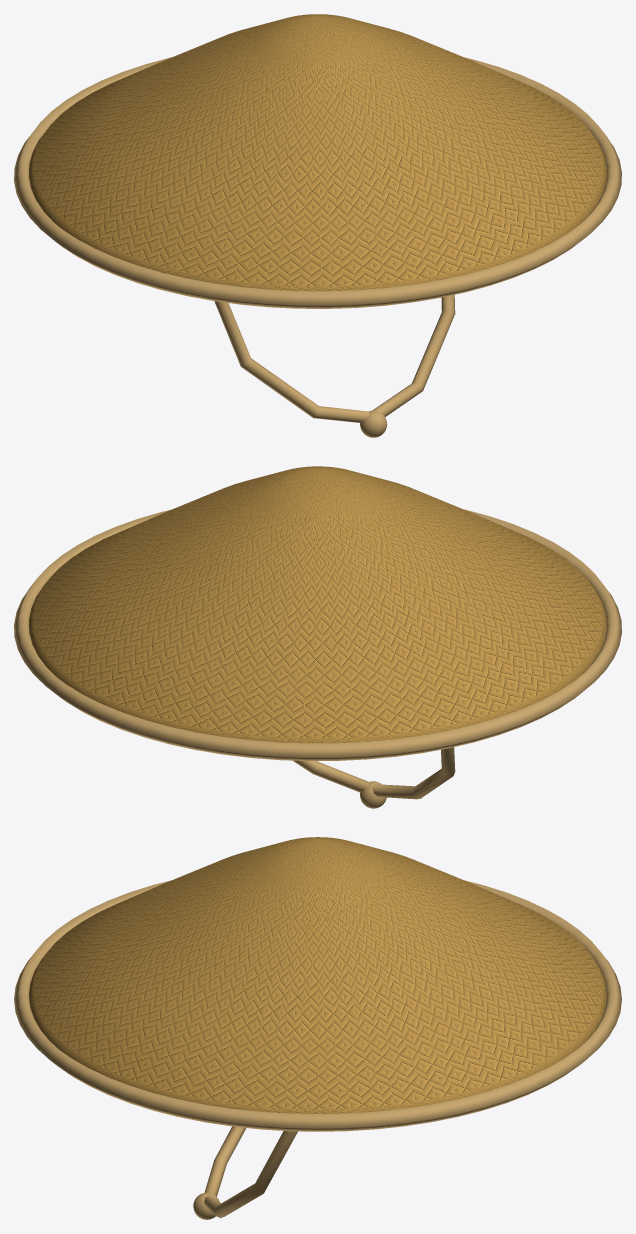
The model's file is StrawHat.glb.
3 renders of one model, top to bottom at view 1: azimuth 30°, elevation 25°; view 2: azimuth 150°, elevation 25°; view 3: azimuth 270°, elevation 25°, orthographic.
Parts seen in each view (by area): view 1: StrawHat; view 2: StrawHat; view 3: StrawHat.
Boxes of the visible parts, x1,y1,x2,y2 form: StrawHat: (14, 14, 621, 437); StrawHat: (14, 466, 621, 808); StrawHat: (14, 837, 621, 1219).
Size of the model in its own units: 3.12 by 2.14 by 3.12.
Materials: 2 (1 with a texture image).
